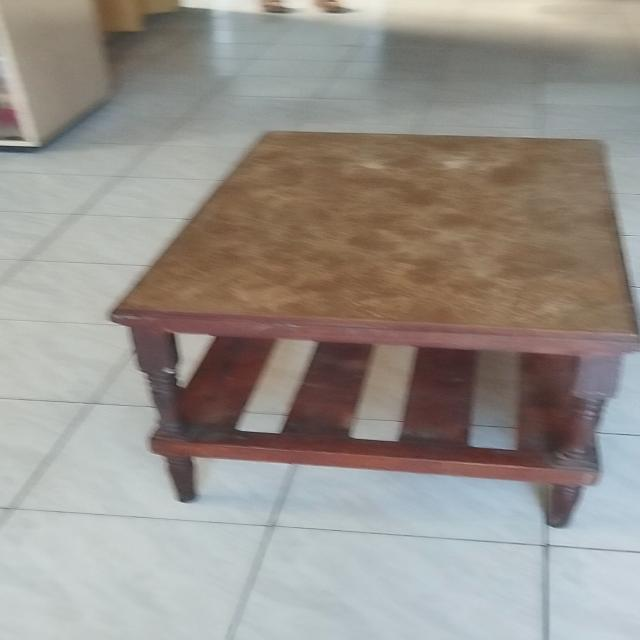table: (109, 127, 640, 532)
